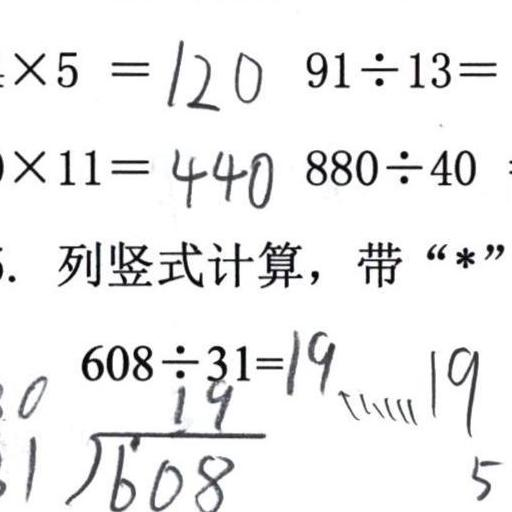ans: (282, 324, 483, 436), (161, 34, 263, 112), (166, 140, 274, 210)
